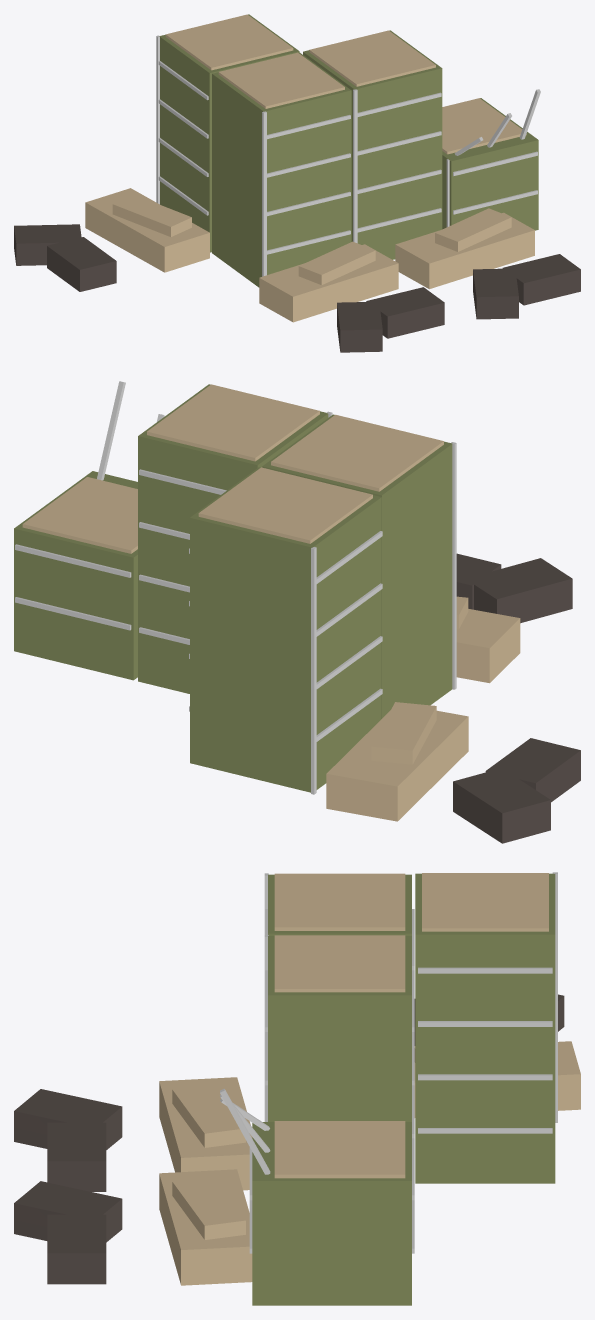
Rendered from SM_HescoRemate_v0_MallaLimpia_e1_Danado_LOD0.fbx.
3 renders of one model, top to bottom at view 1: azimuth 30°, elevation 25°; view 2: azimuth 150°, elevation 25°; view 3: azimuth 270°, elevation 25°, orthographic. The views are drawn at different scales.
Visible parts, largest first — view 1: SM_hesco_piezas_v21_LOD0; view 2: SM_hesco_piezas_v21_LOD0; view 3: SM_hesco_piezas_v21_LOD0.
Part boxes in pixels (<box>): SM_hesco_piezas_v21_LOD0: <box>14,14,580,352</box>; SM_hesco_piezas_v21_LOD0: <box>14,381,580,843</box>; SM_hesco_piezas_v21_LOD0: <box>14,872,580,1305</box>.
Bounding box in the file's own units: 5.25 × 2.13 × 4.33.
